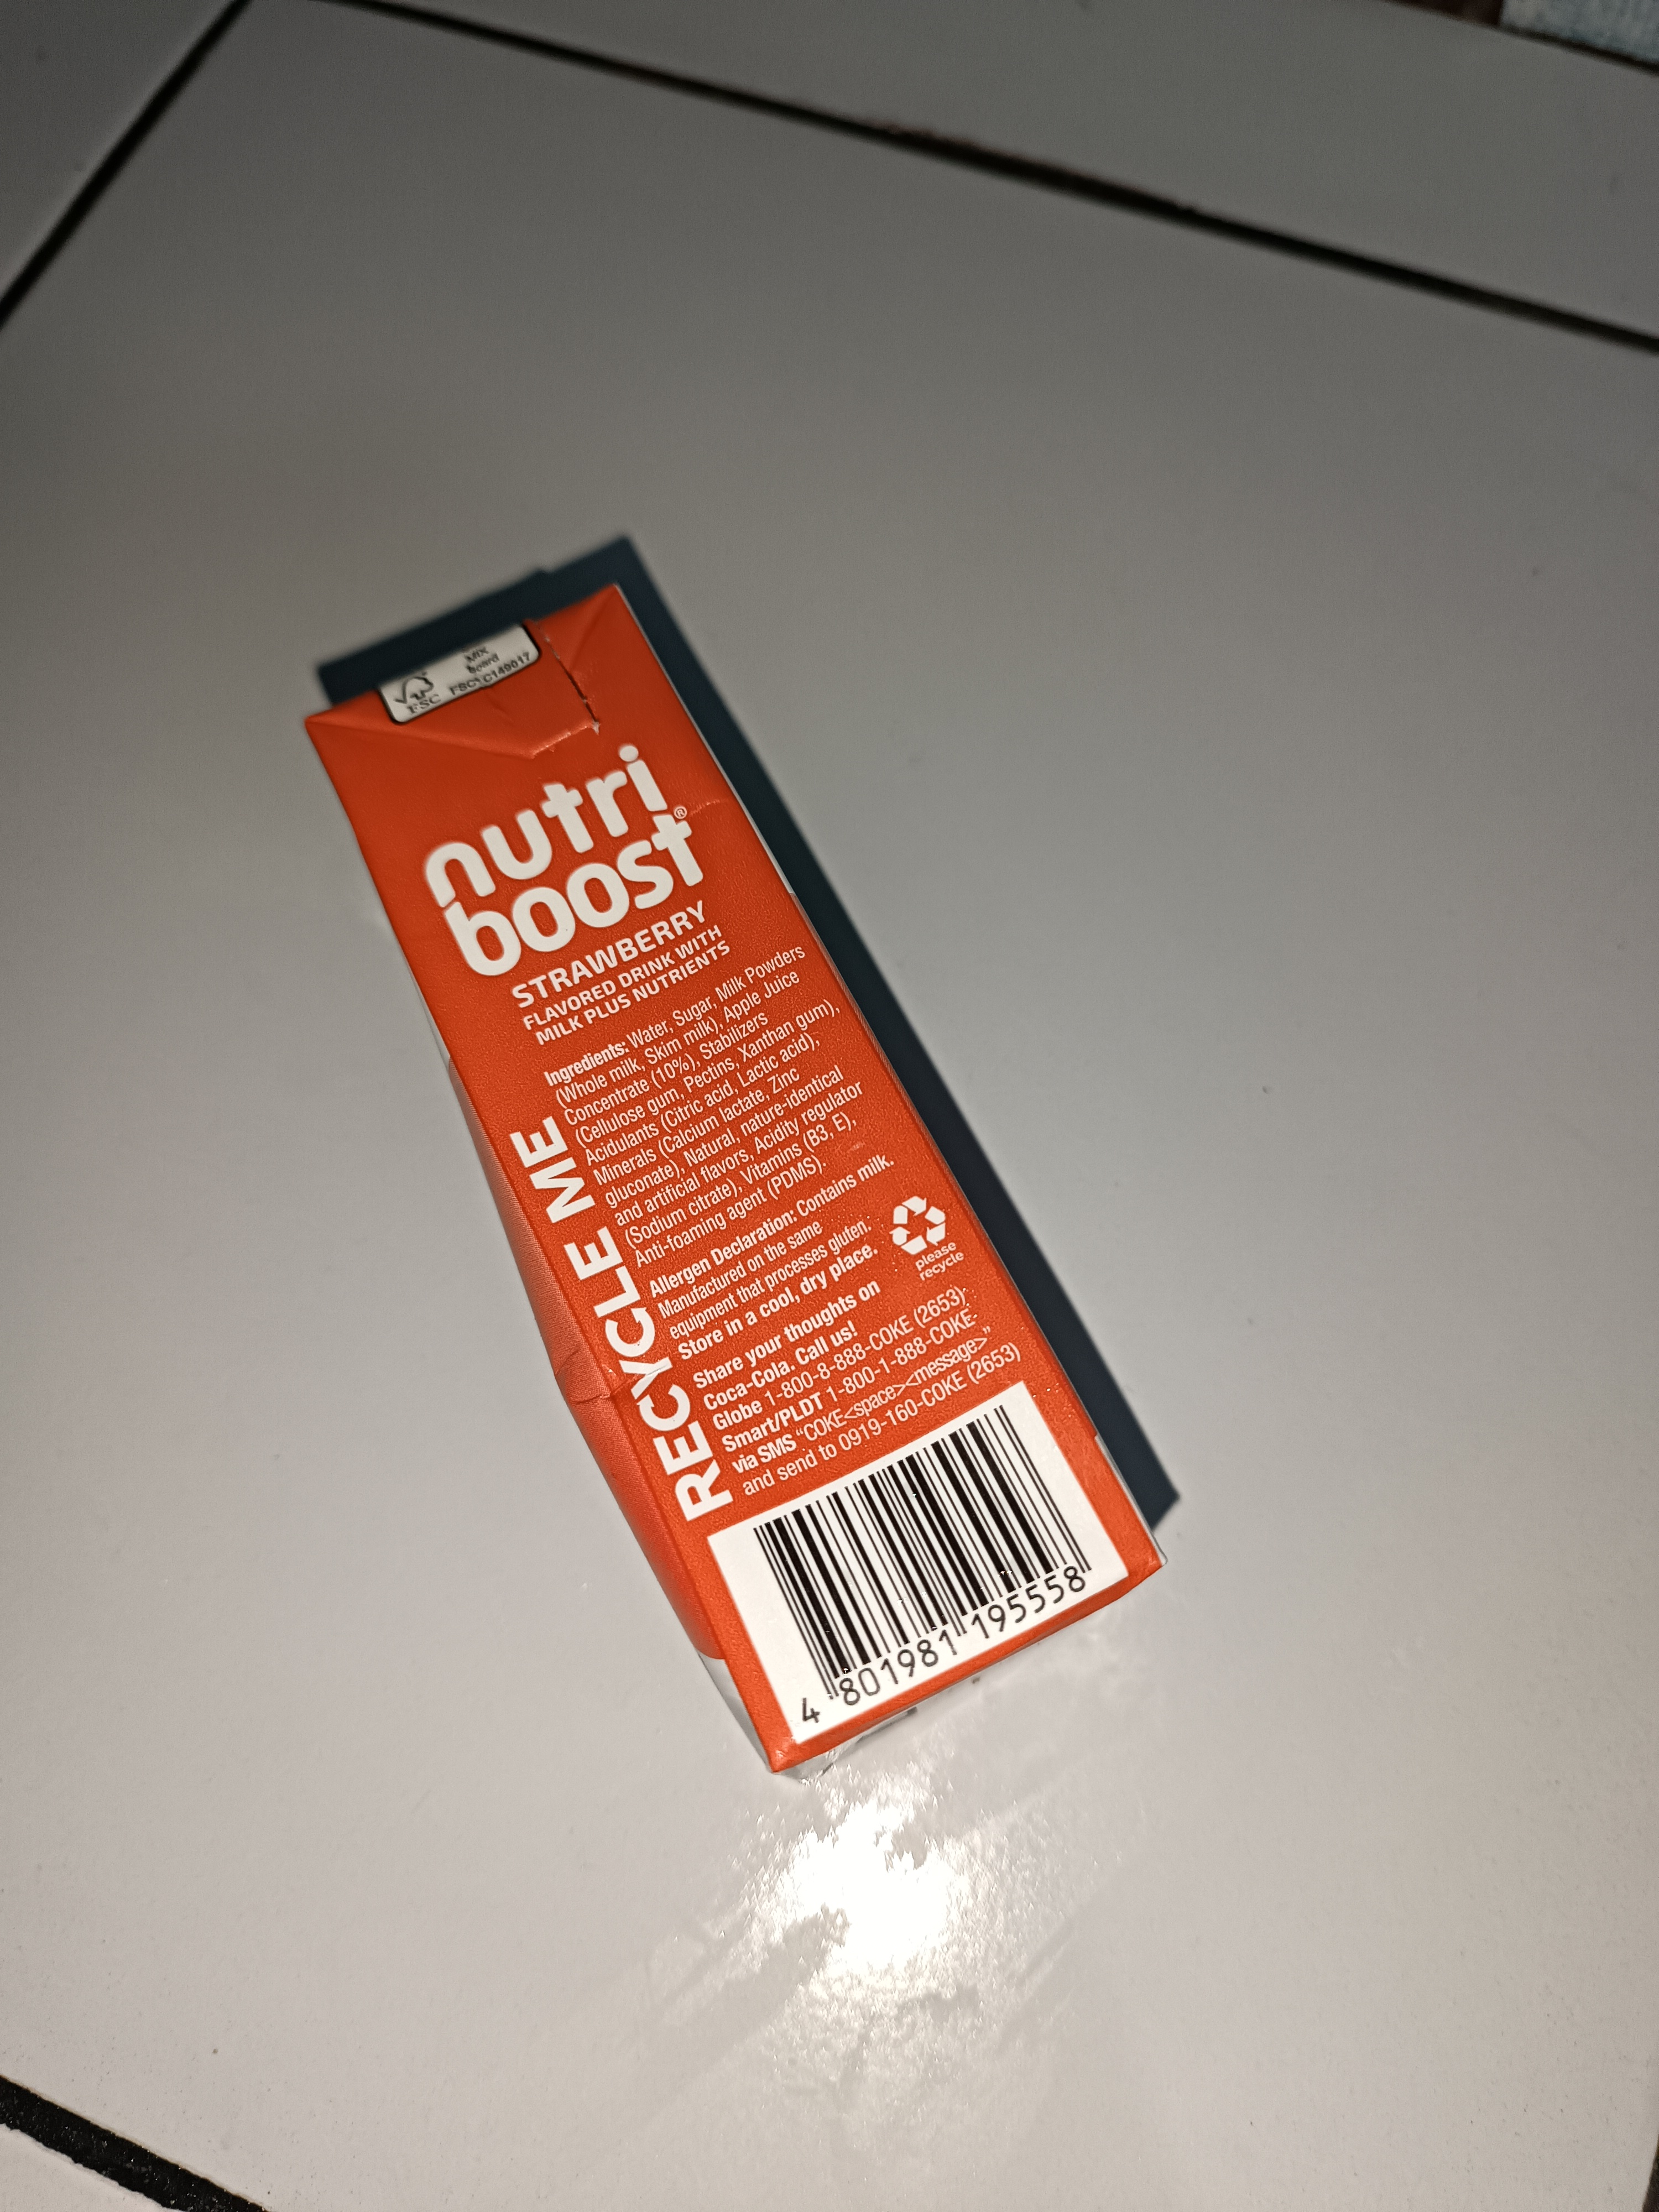Juice Box: (145, 495, 1227, 1780)
